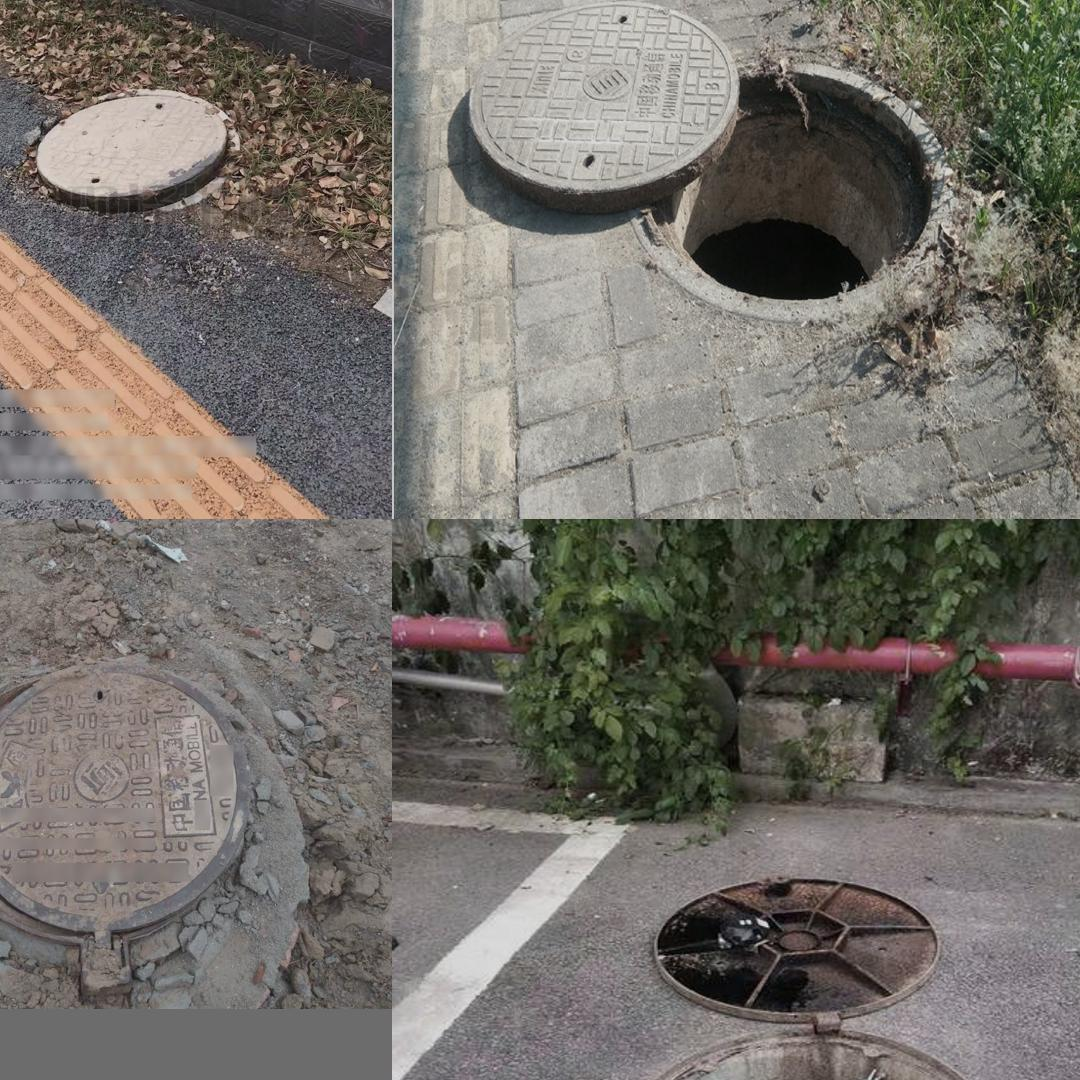uncovered: (468, 0, 947, 322), (568, 852, 1046, 1080), (0, 659, 251, 998), (27, 85, 240, 209)
